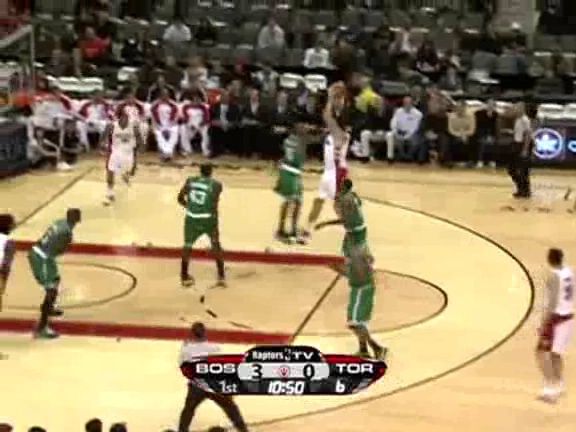person: (339, 186, 373, 267), (338, 186, 372, 267), (340, 186, 374, 267), (339, 185, 373, 266), (339, 187, 373, 268)
target_negative: (352, 89, 552, 425), (470, 274, 526, 432), (170, 118, 235, 242), (472, 60, 561, 140), (326, 38, 345, 397), (428, 407, 513, 413)
